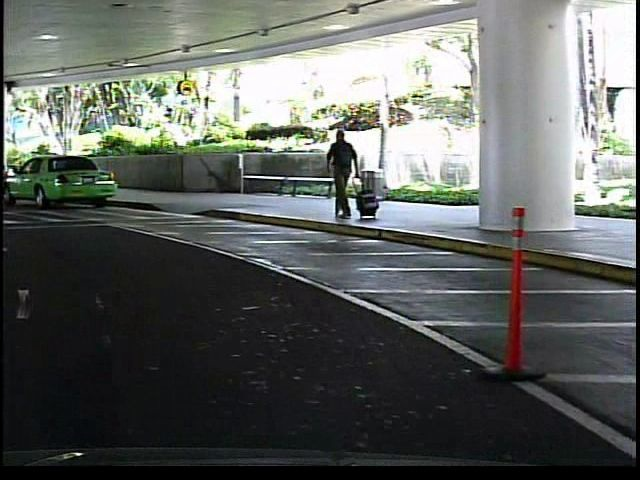person: (317, 122, 360, 228)
